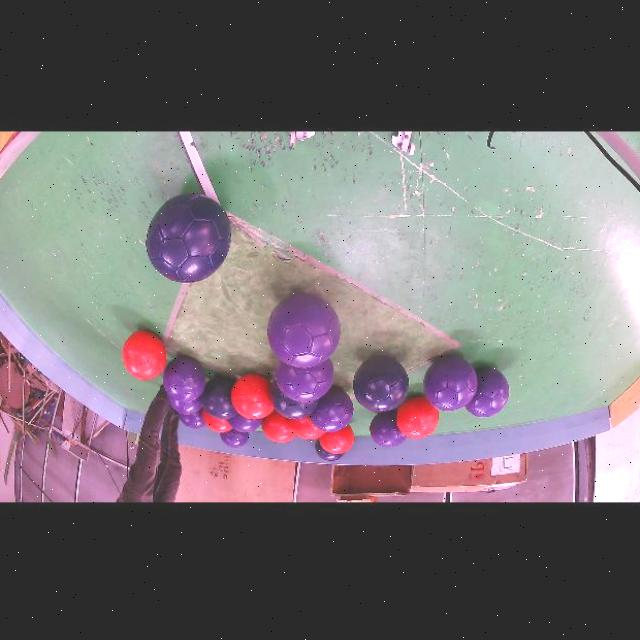B: (146, 193, 231, 283), (354, 356, 409, 412), (270, 380, 319, 420), (200, 377, 238, 420), (315, 440, 343, 461)
P: (267, 293, 341, 368), (423, 355, 478, 411), (275, 358, 334, 402), (465, 368, 510, 417), (309, 386, 354, 433), (163, 355, 205, 402), (369, 409, 407, 447), (227, 413, 263, 433), (168, 394, 203, 414), (220, 429, 249, 448), (178, 409, 205, 429)
R: (123, 331, 167, 380), (231, 374, 274, 420), (396, 396, 439, 439), (262, 409, 296, 443), (319, 425, 355, 453), (289, 416, 325, 440), (202, 409, 233, 433)
